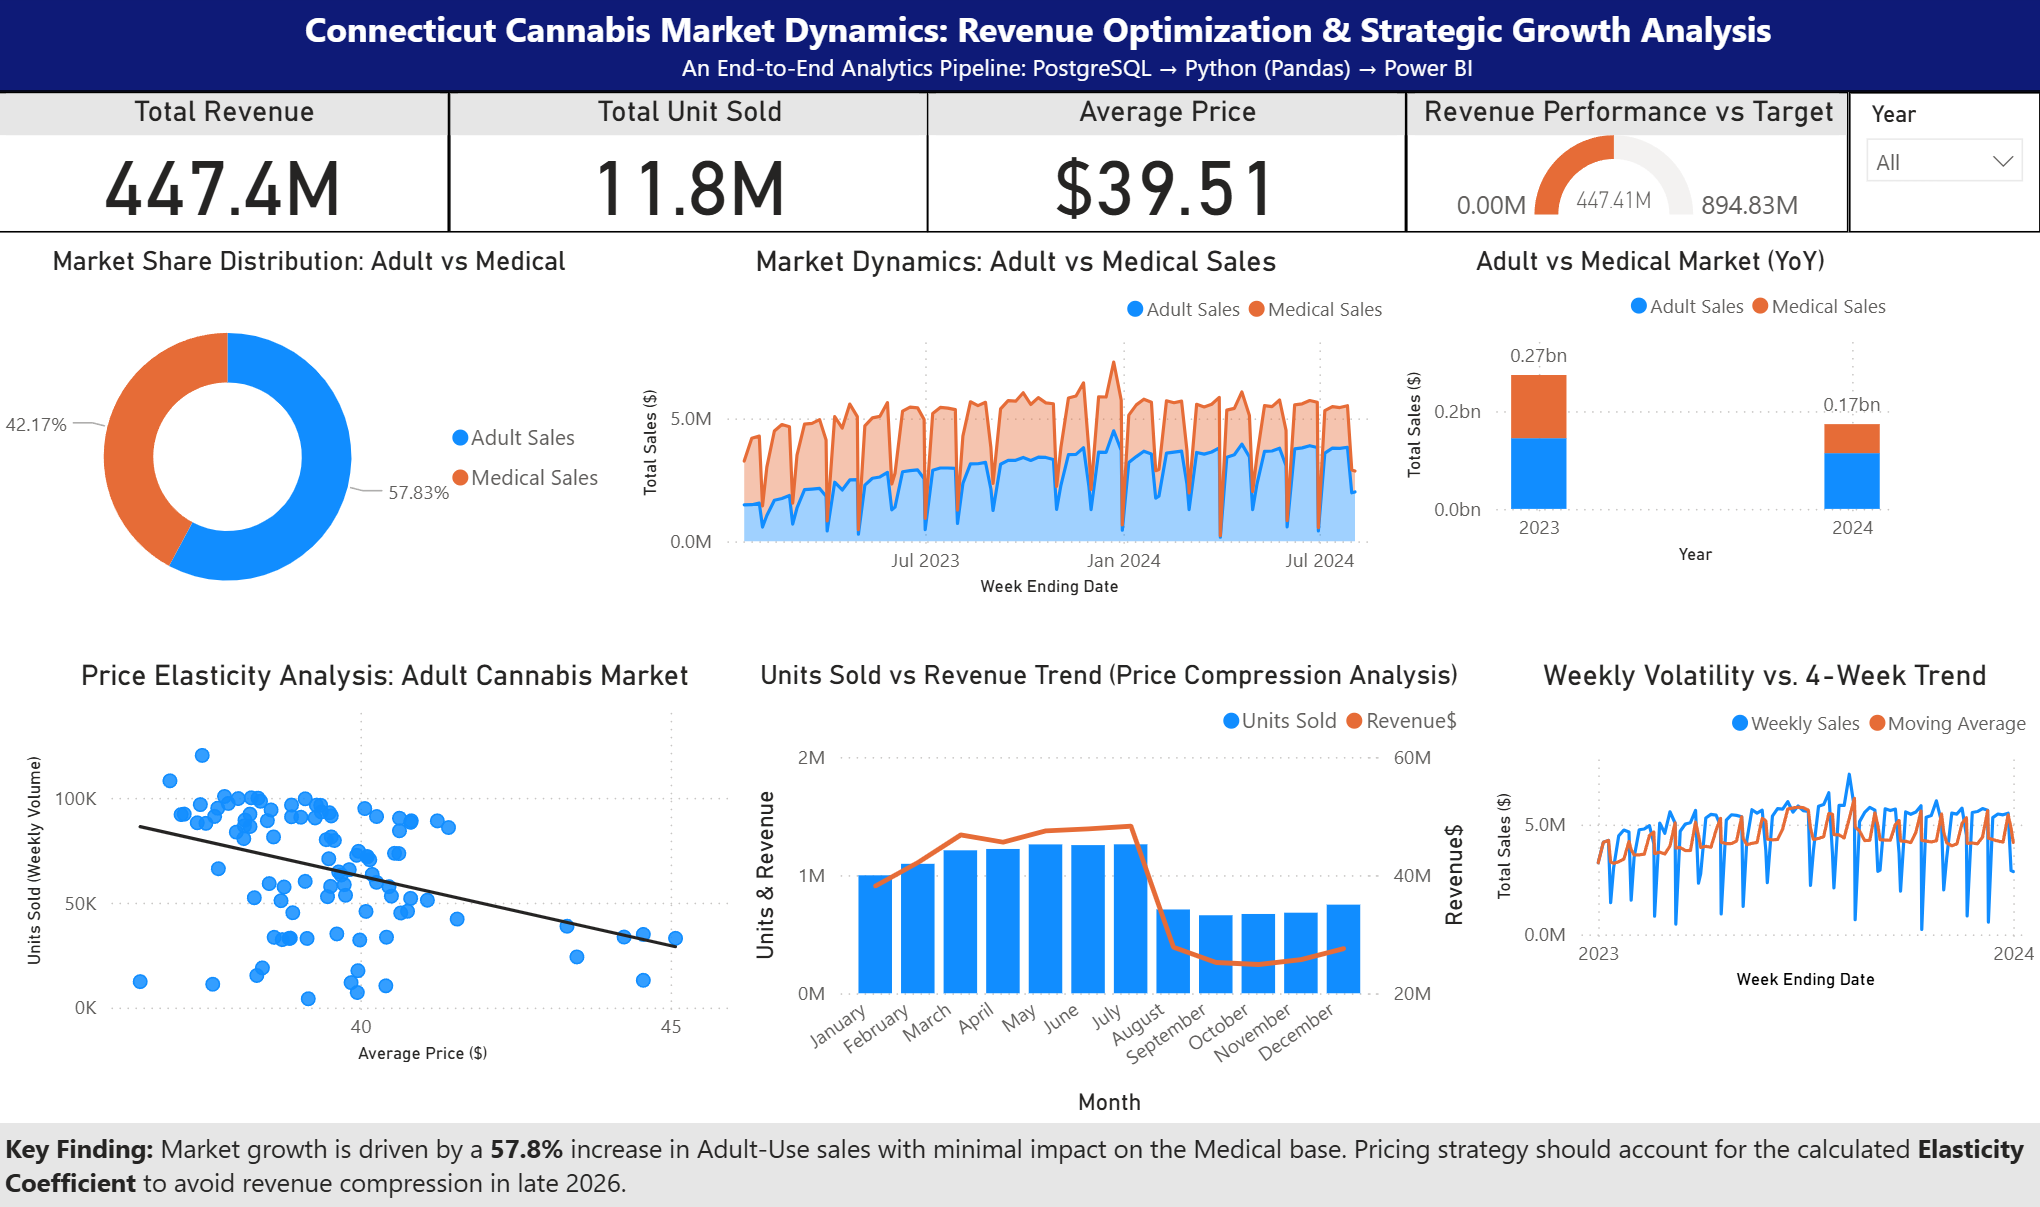

The page's visual inventory and layout, read from the dashboard file:
{"tool":"powerbi","page":{"name":"Page 1","canvas":[1280,760],"ordinal":0},"visuals":[{"type":"lineChart","title":"Weekly Volatility vs. 4-Week Trend","fields":{"Category":["final_cannabis_sales_data.week_ending"],"Y":["Sum(final_cannabis_sales_data.total_sales)","Sum(final_cannabis_sales_data.sales_moving_avg)"]},"box":[933.2,414.2,346.8,212],"z":0},{"type":"card","title":"Total Unit Sold","fields":{"Values":["Sum(final_cannabis_sales_data.total_units)"]},"box":[282.7,60.2,299.7,87.7],"z":1000},{"type":"card","title":"Total Revenue","fields":{"Values":["Sum(final_cannabis_sales_data.total_sales)"]},"box":[0,60.2,282.7,87.7],"z":2000},{"type":"card","title":"Average Price","fields":{"Values":["Avg(final_cannabis_sales_data.adult_avg_price)"]},"box":[582.4,60.2,299.7,87.7],"z":3000},{"type":"scatterChart","title":"Price Elasticity Analysis: Adult Cannabis Market","fields":{"X":["Avg(final_cannabis_sales_data.adult_avg_price)"],"Y":["Sum(final_cannabis_sales_data.adult_units)"],"Category":["final_cannabis_sales_data.week_ending"]},"box":[13.1,414.2,459.4,257.8],"z":4000},{"type":"stackedAreaChart","title":"Market Dynamics: Adult vs Medical Sales","fields":{"Category":["final_cannabis_sales_data.week_ending"],"Y":["Sum(final_cannabis_sales_data.adult_use_sales)","Sum(final_cannabis_sales_data.medical_sales)"]},"box":[398.5,155.1,478.4,225.1],"z":5000},{"type":"slicer","title":"Year","fields":{"Values":["final_cannabis_sales_data.week_ending.Variation.Date Hierarchy.Year"]},"box":[1159.6,60.2,120.4,87.7],"z":6000},{"type":"donutChart","title":"Market Share Distribution: Adult vs Medical","fields":{"Y":["Sum(final_cannabis_sales_data.adult_use_sales)","Sum(final_cannabis_sales_data.medical_sales)"]},"box":[0,155.1,390.7,247.4],"z":7000},{"type":"lineClusteredColumnComboChart","title":"Units Sold vs Revenue Trend (Price Compression Analysis)","fields":{"Category":["final_cannabis_sales_data.week_ending.Variation.Date Hierarchy.Month"],"Y2":["Sum(final_cannabis_sales_data.total_sales)"],"Y":["Sum(final_cannabis_sales_data.total_units)"]},"box":[467.9,414.2,456.8,291.2],"z":8000},{"type":"gauge","title":"Revenue Performance vs Target","fields":{"Y":["Sum(final_cannabis_sales_data.total_sales)"]},"box":[882.1,60.2,277.5,87.7],"z":9000},{"type":"columnChart","title":"Adult vs Medical Market (YoY)","fields":{"Category":["final_cannabis_sales_data.week_ending.Variation.Date Hierarchy.Year"],"Y":["Sum(final_cannabis_sales_data.adult_use_sales)","Sum(final_cannabis_sales_data.medical_sales)"]},"box":[876.9,155.1,315.4,204.8],"z":10000},{"type":"textbox","box":[0,0,1280,60.2],"z":11000},{"type":"textbox","box":[0,705.4,1280,54.3],"z":12000}]}

Visuals, with their boxes in screenshot pixels (x1, y1, x2, y2), scaled from the page's 1280x760 canvas onto the 2040x1207 screenshot:
"Weekly Volatility vs. 4-Week Trend" lineChart: (1487, 658, 2039, 995)
"Total Unit Sold" card: (451, 96, 928, 235)
"Total Revenue" card: (0, 96, 451, 235)
"Average Price" card: (928, 96, 1406, 235)
"Price Elasticity Analysis: Adult Cannabis Market" scatterChart: (21, 658, 753, 1067)
"Market Dynamics: Adult vs Medical Sales" stackedAreaChart: (635, 246, 1398, 604)
"Year" slicer: (1848, 96, 2039, 235)
"Market Share Distribution: Adult vs Medical" donutChart: (0, 246, 623, 639)
"Units Sold vs Revenue Trend (Price Compression Analysis)" lineClusteredColumnComboChart: (746, 658, 1474, 1120)
"Revenue Performance vs Target" gauge: (1406, 96, 1848, 235)
"Adult vs Medical Market (YoY)" columnChart: (1398, 246, 1900, 572)
textbox: (0, 0, 2039, 96)
textbox: (0, 1120, 2039, 1206)
